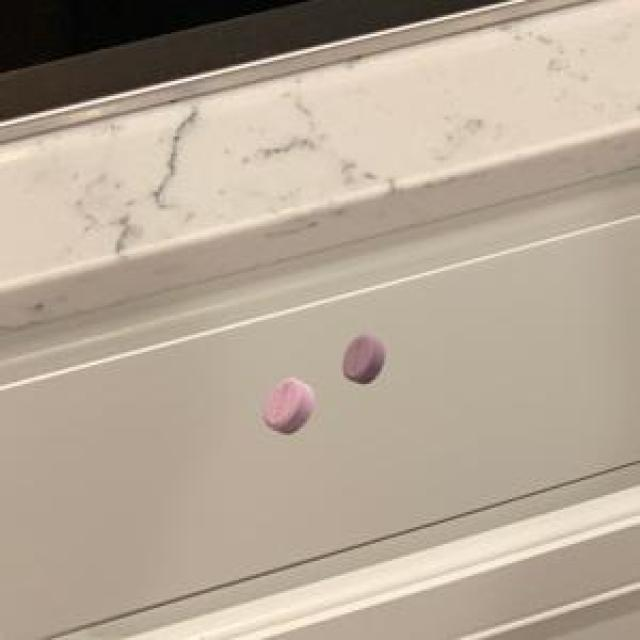Kremil_S: (252, 369, 322, 440), (334, 329, 396, 392)
